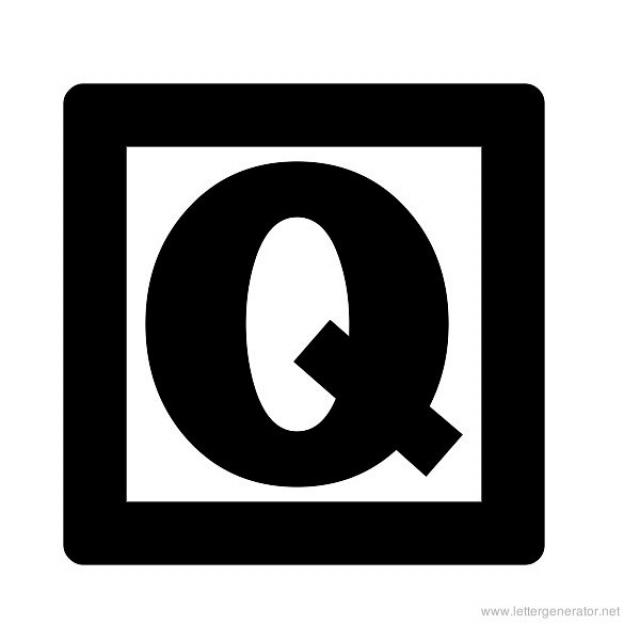Q: (135, 155, 483, 495)
